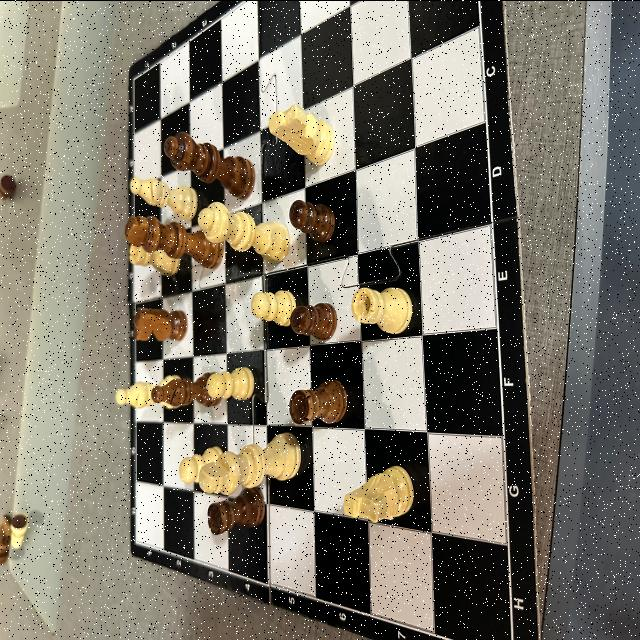Black-Bishop: (151, 371, 222, 406)
Black-King: (124, 215, 224, 269)
Black-Knight: (132, 306, 188, 340), (0, 512, 12, 564)
Black-Pawn: (289, 199, 335, 243), (290, 302, 338, 339)
Black-Queen: (164, 130, 255, 200)
Black-Rook: (208, 486, 266, 534), (289, 378, 347, 423)
White-Bishop: (130, 176, 198, 220), (116, 374, 182, 408)
White-King: (199, 430, 301, 494)
White-Knight: (344, 464, 414, 522), (268, 104, 334, 164)
White-Pawn: (251, 289, 297, 326), (179, 444, 223, 482), (207, 366, 254, 400), (11, 512, 29, 548)
White-Queen: (198, 200, 290, 262)
White-Rook: (351, 286, 413, 334), (130, 244, 180, 276)
